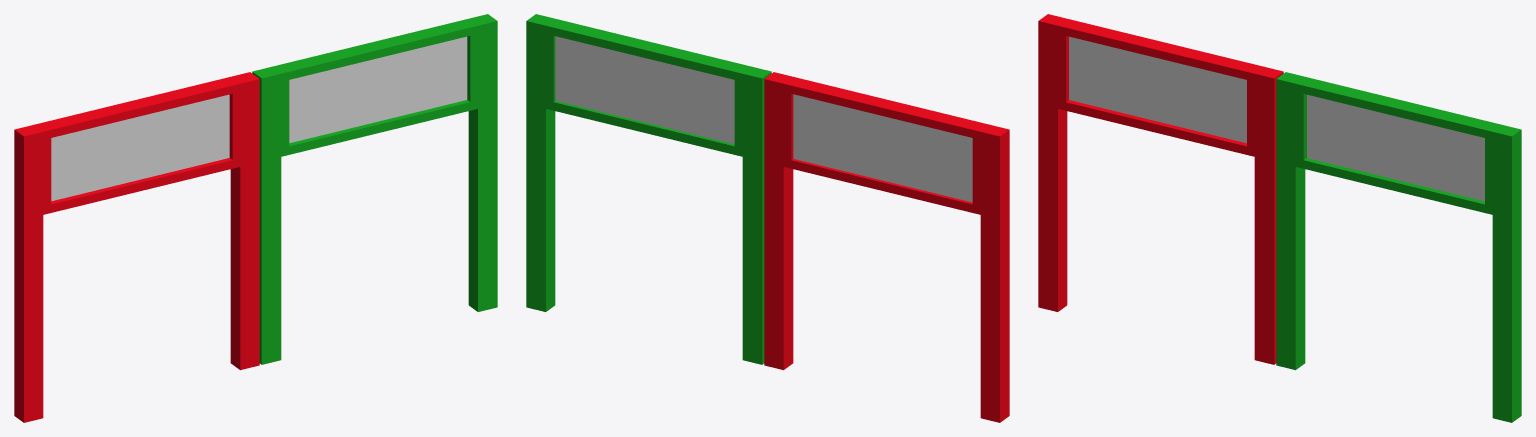
Rendered from positive and negative gates.fbx.
3 renders of one model, left to right at view 1: azimuth 30°, elevation 25°; view 2: azimuth 150°, elevation 25°; view 3: azimuth 330°, elevation 25°, orthographic.
Parts seen in each view (by area): view 1: negative gate, positive gate; view 2: negative gate, positive gate; view 3: positive gate, negative gate.
Boxes of the visible parts, bbox=[...] form: negative gate: bbox=[14, 72, 259, 422]; positive gate: bbox=[252, 14, 497, 364]; negative gate: bbox=[764, 72, 1009, 422]; positive gate: bbox=[526, 14, 771, 364]; positive gate: bbox=[1276, 72, 1521, 422]; negative gate: bbox=[1038, 14, 1283, 364].
Bounding box in the file's own units: 1974 × 1141 × 68.85.
